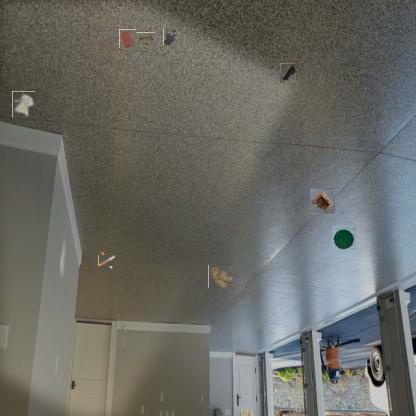dirty: (309, 189, 335, 214), (11, 92, 36, 117), (208, 264, 233, 288), (332, 226, 356, 250), (280, 63, 296, 83), (138, 30, 153, 46), (100, 253, 114, 268)
liquid: (118, 30, 137, 48), (163, 27, 176, 46)
